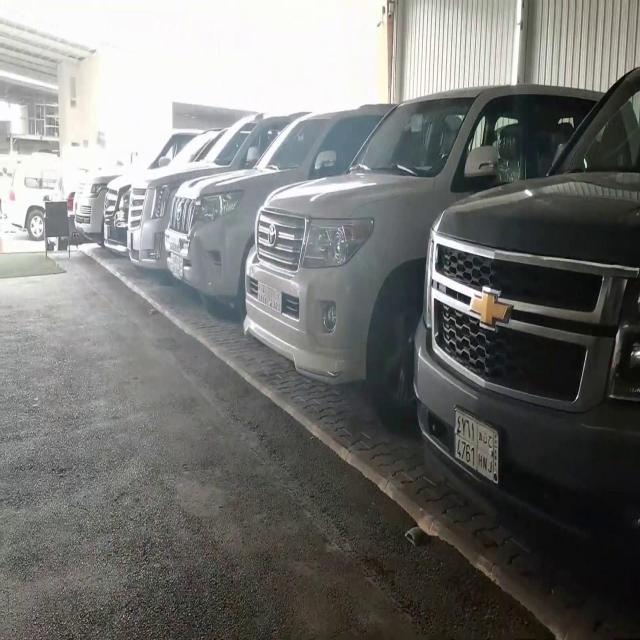license_plate: (450, 402, 502, 487), (254, 276, 282, 312)
